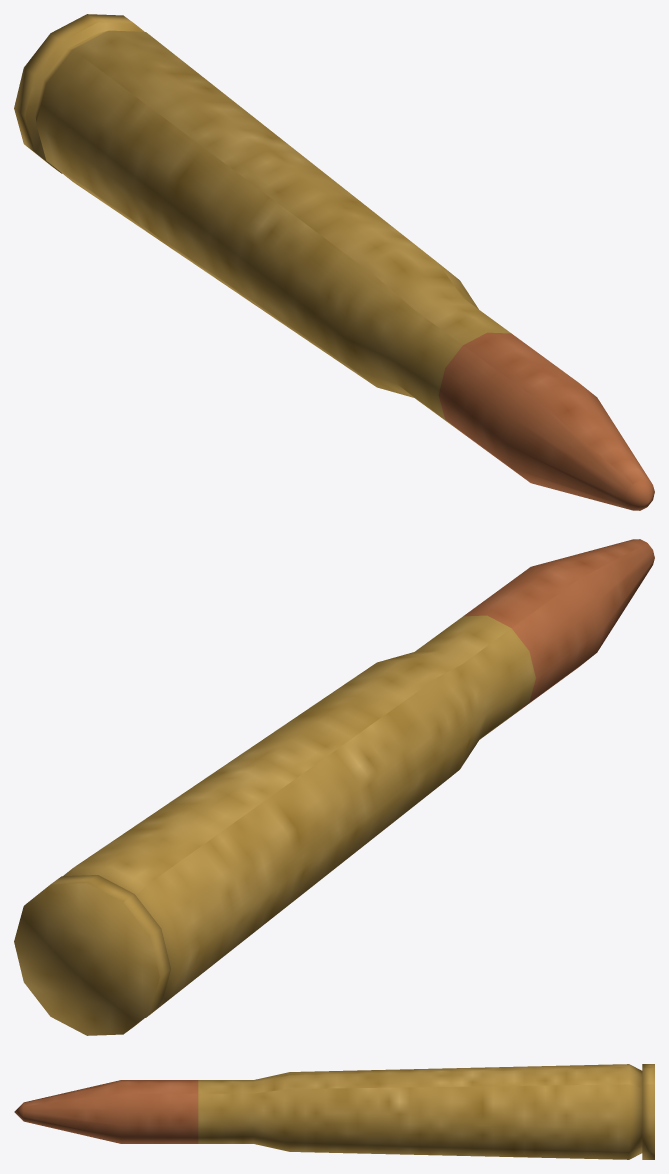
The model's file is round_792x57.glb.
3 views of the same model, one above another, from view 1: azimuth 30°, elevation 25°; view 2: azimuth 150°, elevation 25°; view 3: azimuth 270°, elevation 25° (orthographic). The views are drawn at different scales.
Parts seen in each view (by area): view 1: round_792x57; view 2: round_792x57; view 3: round_792x57.
Part boxes in pixels (x1,y1,x2,y2): round_792x57: [14, 14, 654, 510]; round_792x57: [14, 539, 654, 1035]; round_792x57: [14, 1064, 654, 1159].
Bounding box in the file's own units: 0.012 × 0.012 × 0.08.
2 materials, 2 textured.
